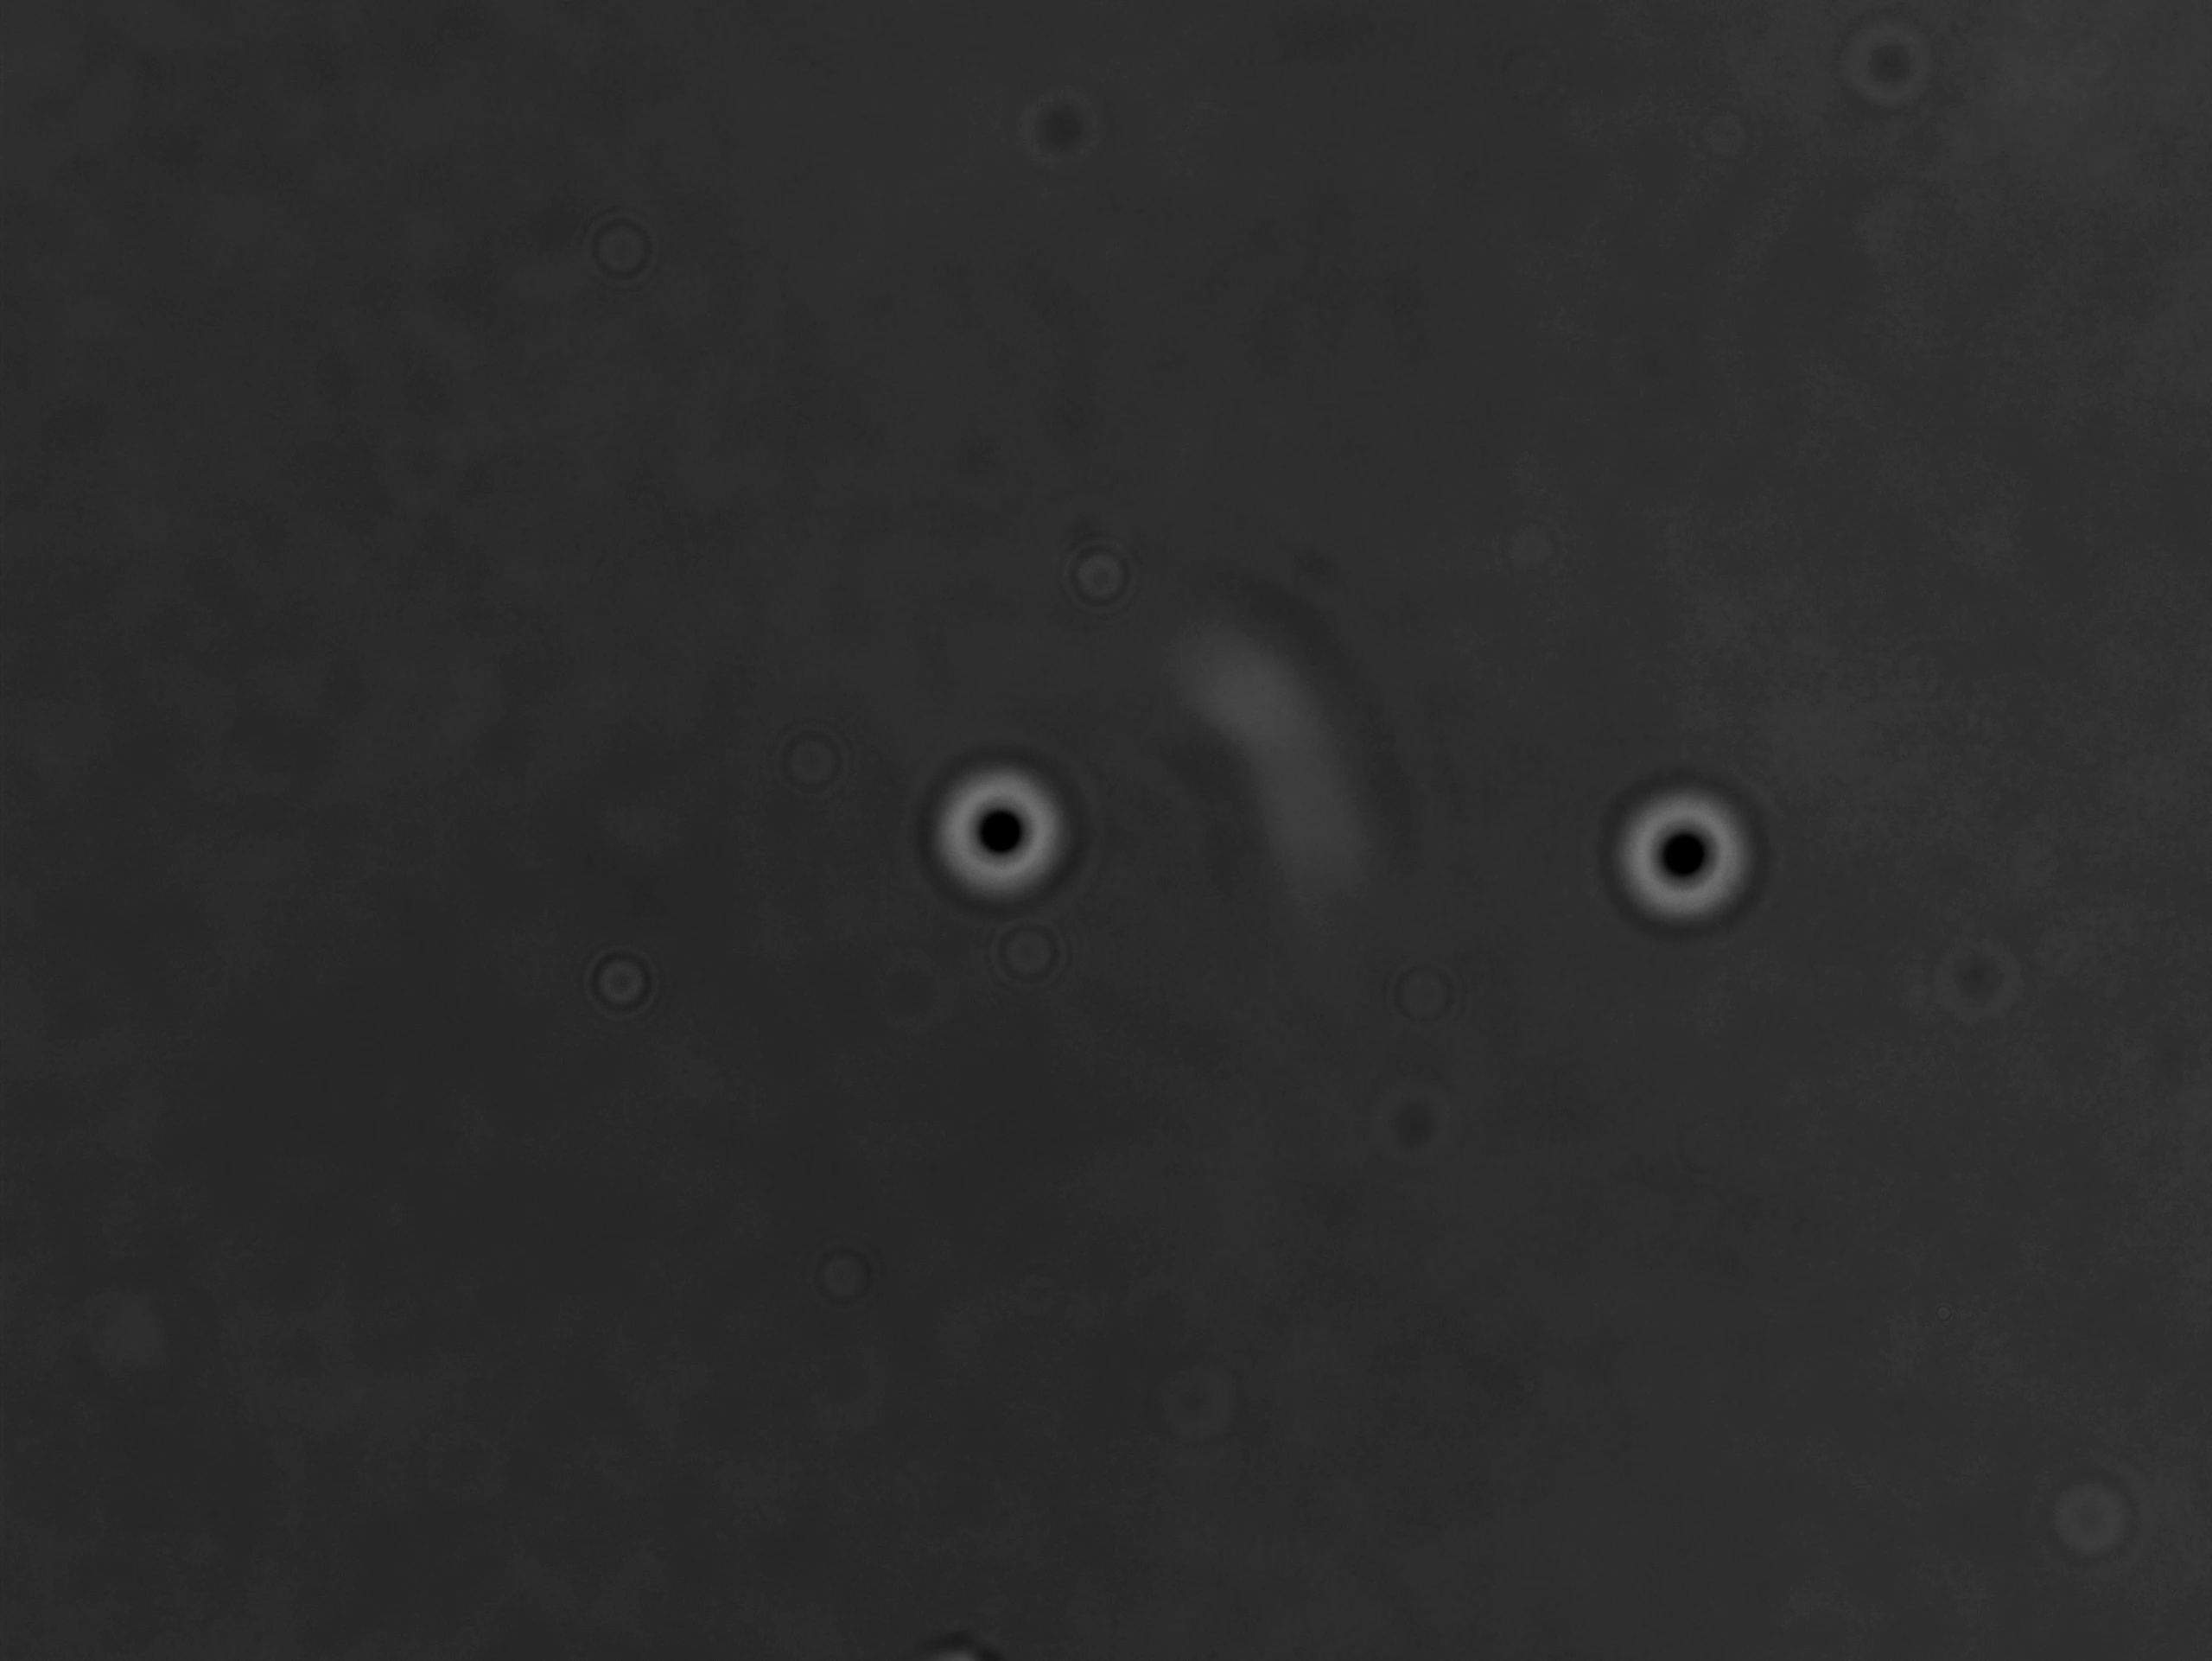depth:-40: (914, 755, 1078, 918), (1600, 780, 1760, 946)
